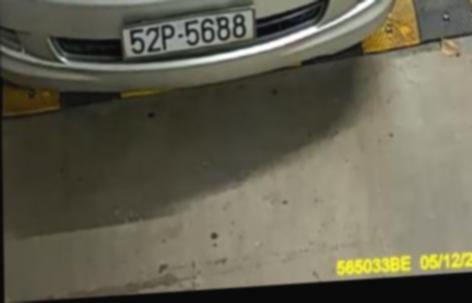License_Plate: (114, 0, 258, 60)
